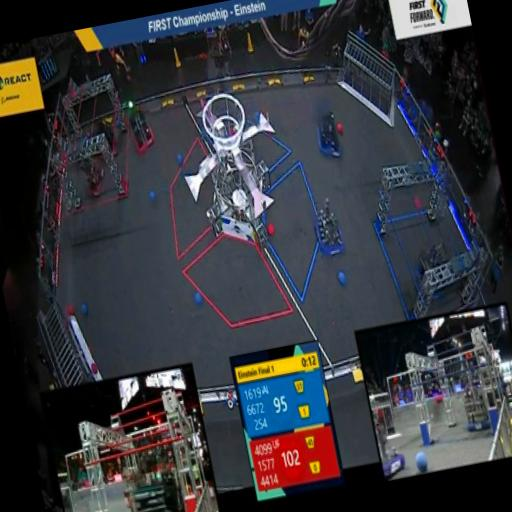robot: (408, 232, 457, 302), (307, 194, 350, 266), (70, 133, 112, 204), (308, 102, 352, 161), (122, 95, 163, 157), (86, 104, 126, 160)
